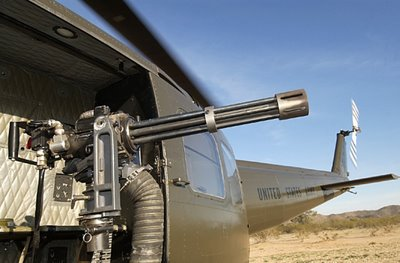rifle: (18, 86, 313, 244)
